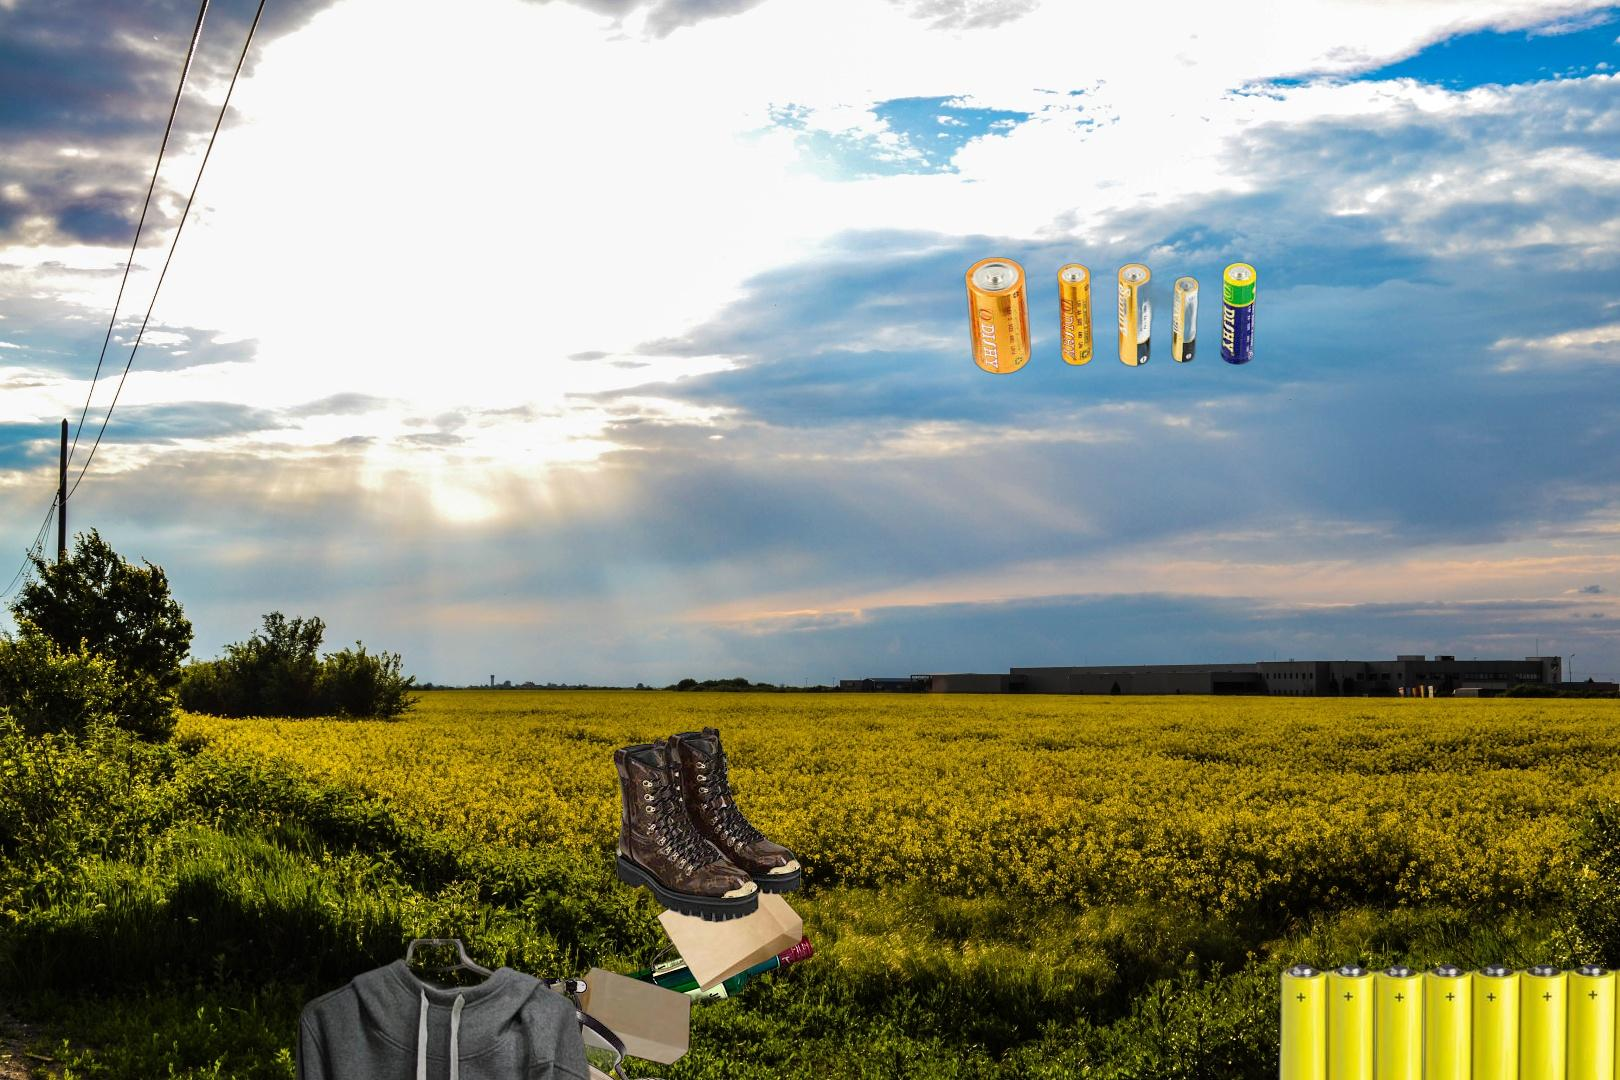battery: (1222, 957, 1620, 1080), (964, 256, 1258, 377)
clothes: (287, 939, 622, 1080)
glass: (607, 520, 818, 1035)
paper-bag: (568, 843, 849, 1067)
shoes: (611, 724, 804, 925), (491, 978, 735, 1080)
